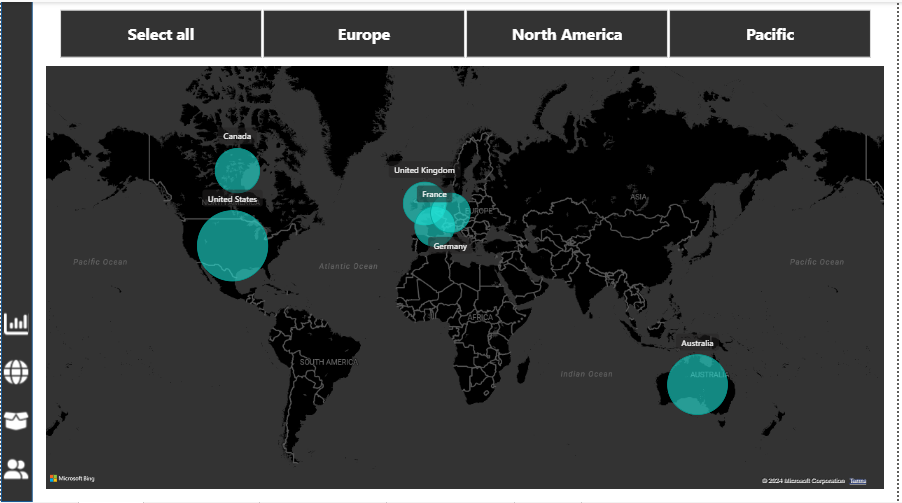

The page's visual inventory and layout, read from the dashboard file:
{"tool":"powerbi","page":{"name":"Map","canvas":[1280,720],"ordinal":1},"visuals":[{"type":"shape","box":[0,0,45,720],"z":0},{"type":"map","fields":{"Category":["Territory Lookup.Country"],"Size":["Measure Table.Total Orders"]},"box":[60.3,92.6,1205.9,613.2],"z":1000},{"type":"slicer","fields":{"Values":["Territory Lookup.Continent"]},"box":[58,10.3,1208,82.4],"z":2000},{"type":"actionButton","box":[0,444.1,43,43],"z":3000,"group":"g1"},{"type":"actionButton","box":[0,651.5,43,43],"z":4000,"group":"g1"},{"type":"actionButton","box":[0,513.2,43,43],"z":5000,"group":"g1"},{"type":"actionButton","box":[0,582.3,43,43],"z":6000,"group":"g1"},{"type":"group","id":"g1","title":"Navigation Button","box":[0,444.1,43,250.4],"z":6001}]}

Visuals, with their boxes in screenshot pixels (x1, y1, x2, y2), scaled from the page's 1280x720 canvas onto the 902x503 screenshot:
shape: 0, 0, 32, 502
map - Territory Lookup.Country x Measure Table.Total Orders: 42, 65, 892, 493
slicer - Territory Lookup.Continent: 41, 7, 892, 65
actionButton: 0, 310, 30, 340
actionButton: 0, 455, 30, 485
actionButton: 0, 359, 30, 389
actionButton: 0, 407, 30, 437
"Navigation Button" group: 0, 310, 30, 485
